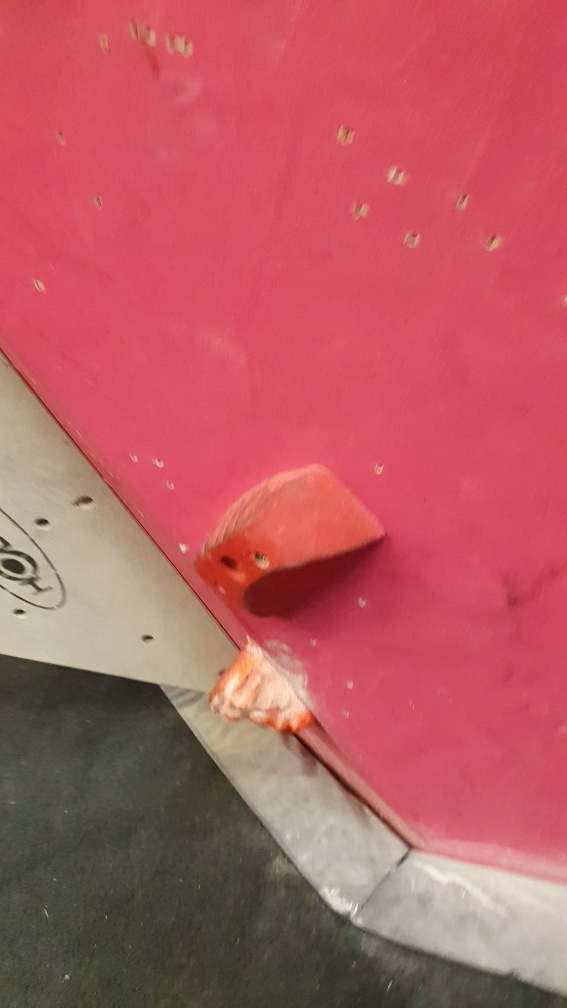Jug: (201, 635, 323, 744)
Pinch: (195, 465, 385, 622)
